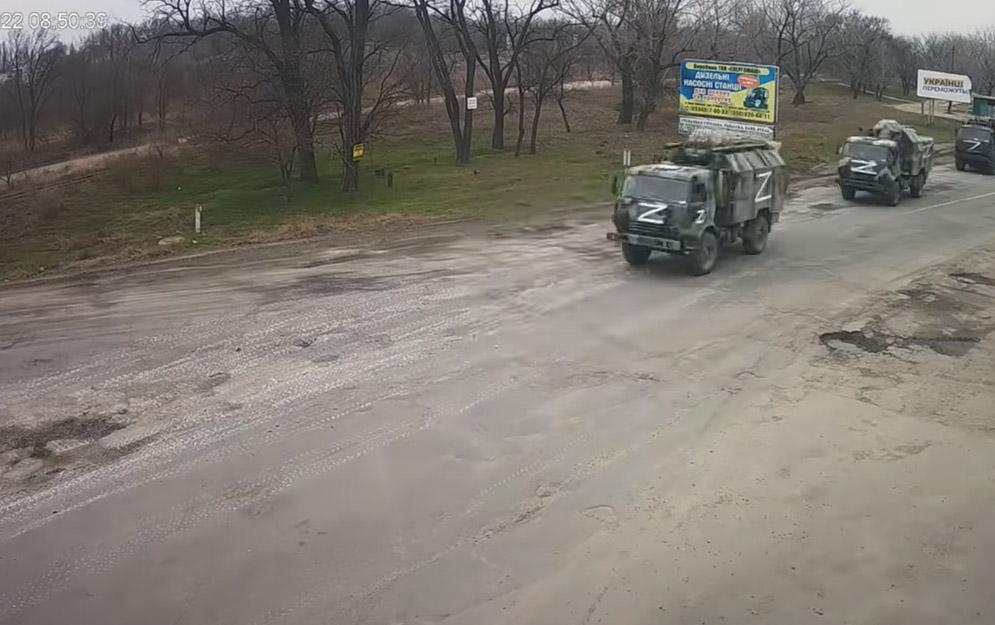truck: (607, 130, 793, 282), (833, 121, 932, 204), (953, 113, 995, 180)
